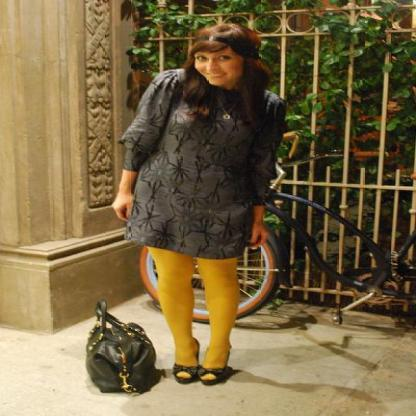bag: (85, 309, 161, 394)
dress: (122, 60, 286, 259)
shoe: (173, 358, 240, 385)
